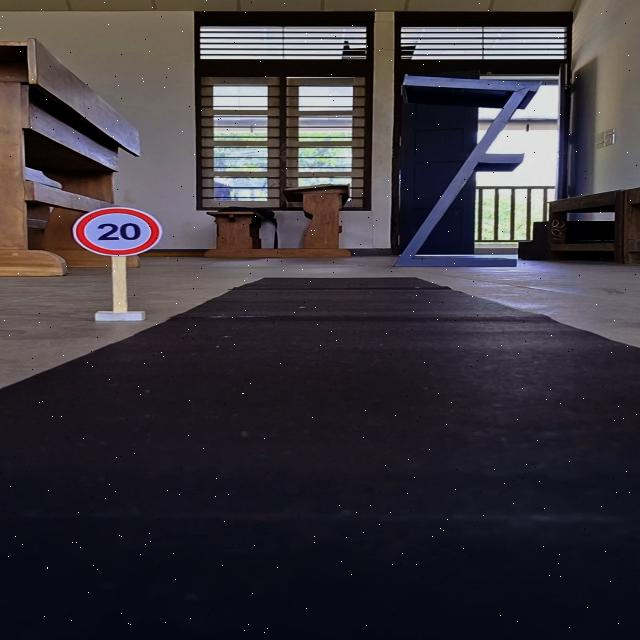Speed20: (66, 203, 168, 256)
